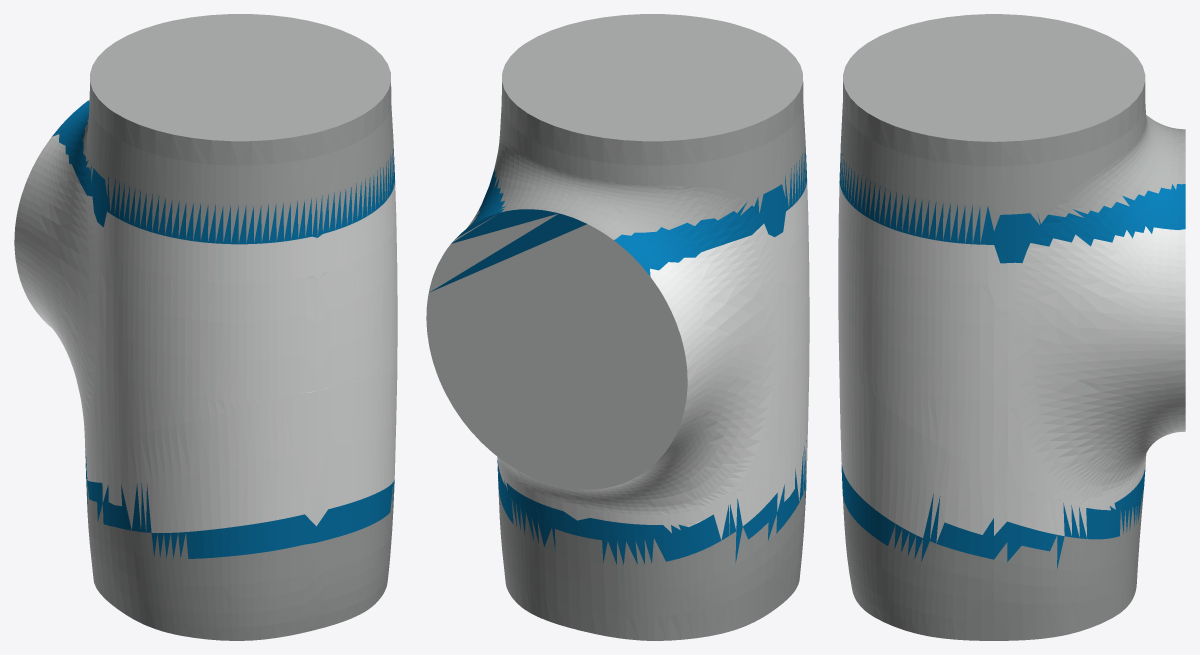
File: DobotCR16Link5.dae
The picture shows the model from 3 angles, left to right: view 1: azimuth 30°, elevation 25°; view 2: azimuth 150°, elevation 25°; view 3: azimuth 270°, elevation 25°; orthographic projection.
Parts seen in each view (by area): view 1: DobotCR16Link5; view 2: DobotCR16Link5; view 3: DobotCR16Link5.
Boxes of the visible parts, x1,y1,x2,y2 form: DobotCR16Link5: (14, 14, 397, 640); DobotCR16Link5: (426, 14, 809, 640); DobotCR16Link5: (838, 14, 1185, 640).
Size of the model in its own units: 0.0927 by 0.1034 by 0.168.
